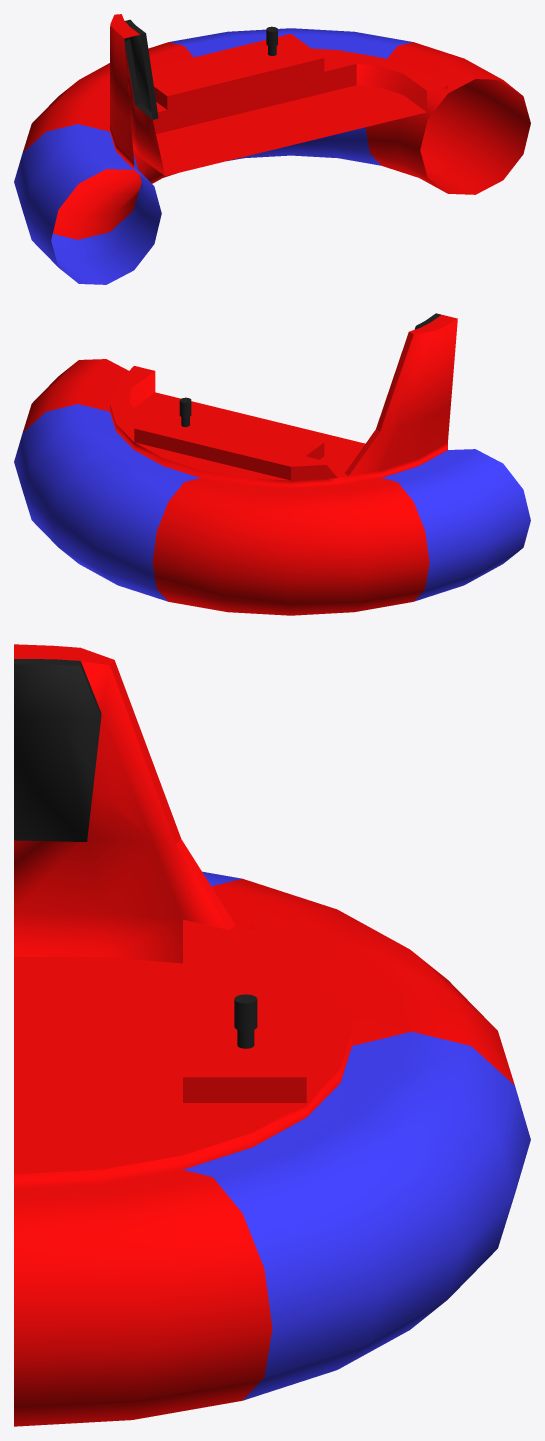
File: TorusCart_red_darkblue.dae
3 renders of one model, top to bottom at view 1: azimuth 30°, elevation 25°; view 2: azimuth 150°, elevation 25°; view 3: azimuth 270°, elevation 25°, orthographic. The views are drawn at different scales.
Visible parts, largest first — view 1: Torus.004; view 2: Torus.004; view 3: Torus.004.
Part boxes in pixels (left/top/right/bottom): Torus.004: left=14, top=14, right=530, bottom=284; Torus.004: left=14, top=313, right=530, bottom=615; Torus.004: left=14, top=644, right=530, bottom=1426.
Size of the model in its own units: 1.3 by 0.65 by 0.6266.
